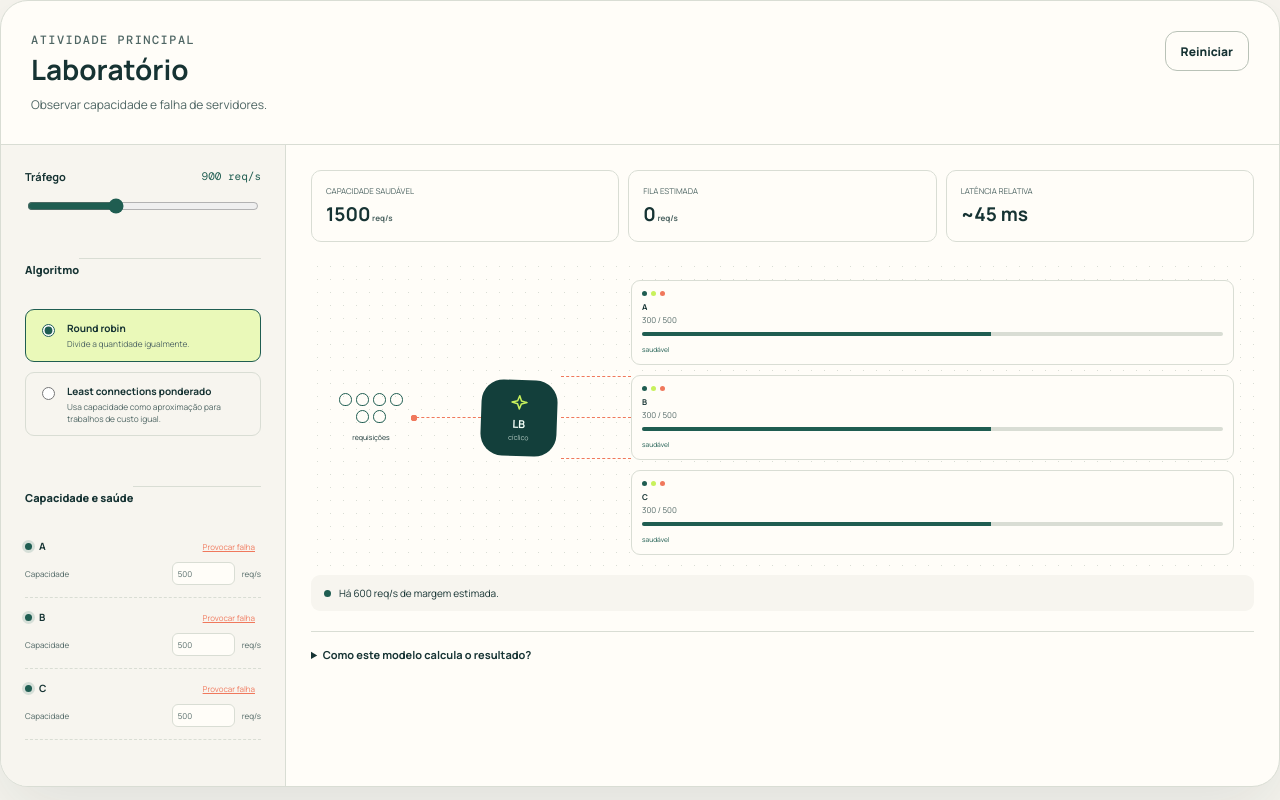
updates capacity when a server fails
The width and height of the screenshot is (1280, 800).
expect the text "1500" is shown: met, box [326,201,370,227]
Click the 1st button "Provocar falha" at (229, 546), box [197,540,261,553]
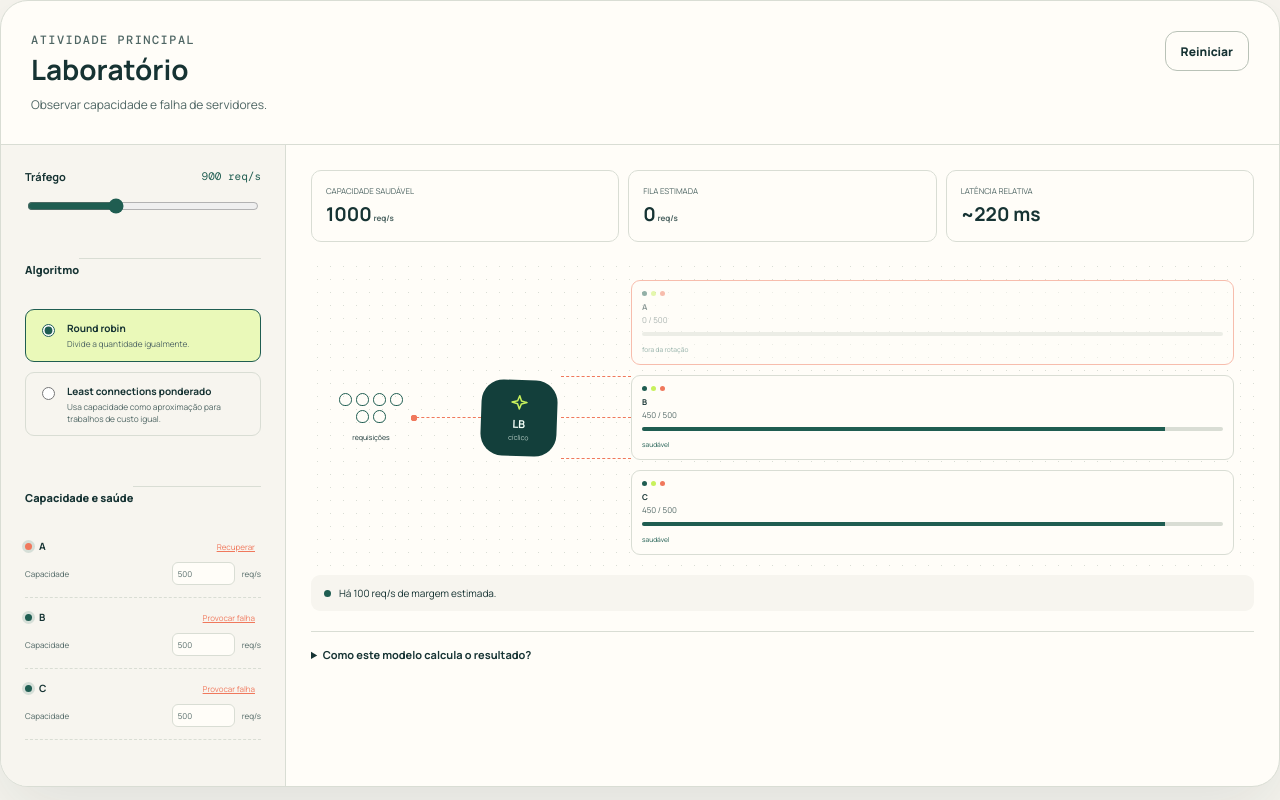
expect the text "1000" is shown: met, box [326,201,372,227]
